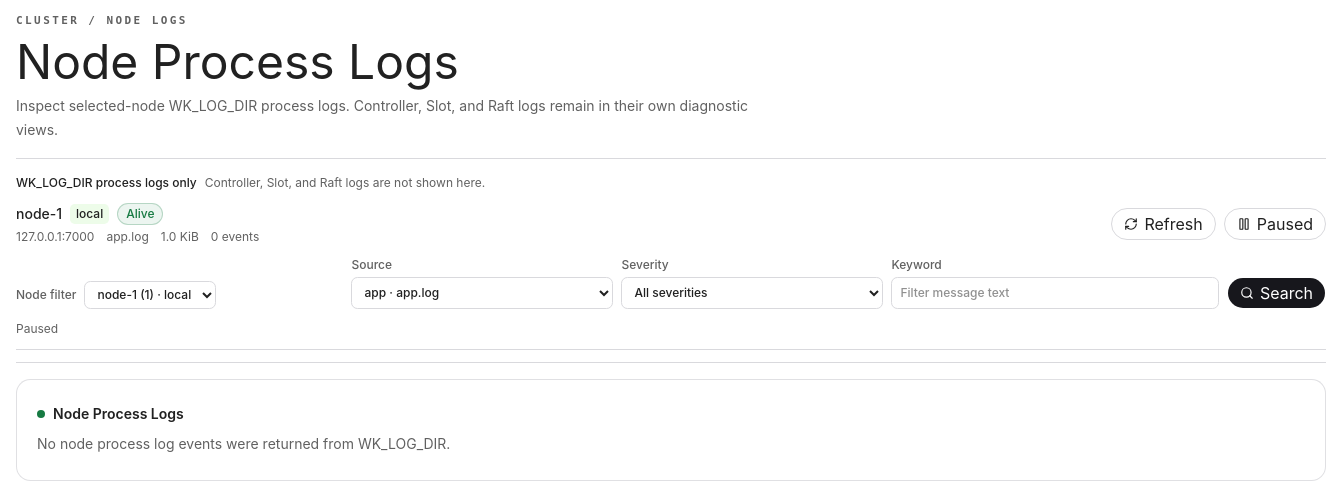
Test: uses node process log wording for empty states
Expected: the text "No node process log events were returned from WK_LOG_DIR." is shown, [37,434,450,452]
Type "fatal" into the field labelled "Keyword" at (1055, 292), box [891,276,1219,308]
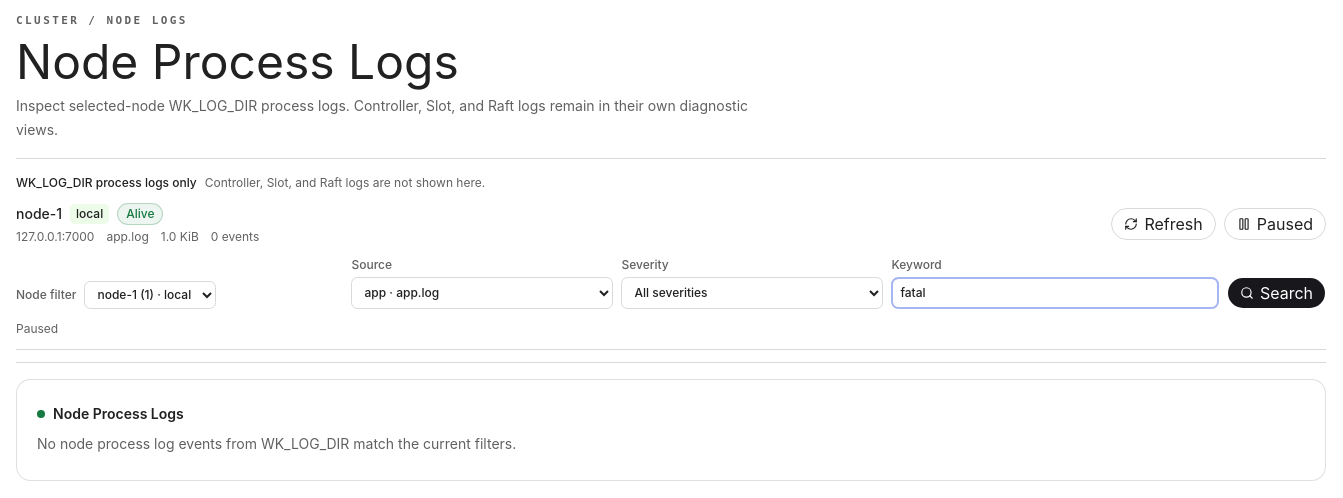
Expected: the text "No node process log events from WK_LOG_DIR match the current filters." is shown, [37,434,516,452]
